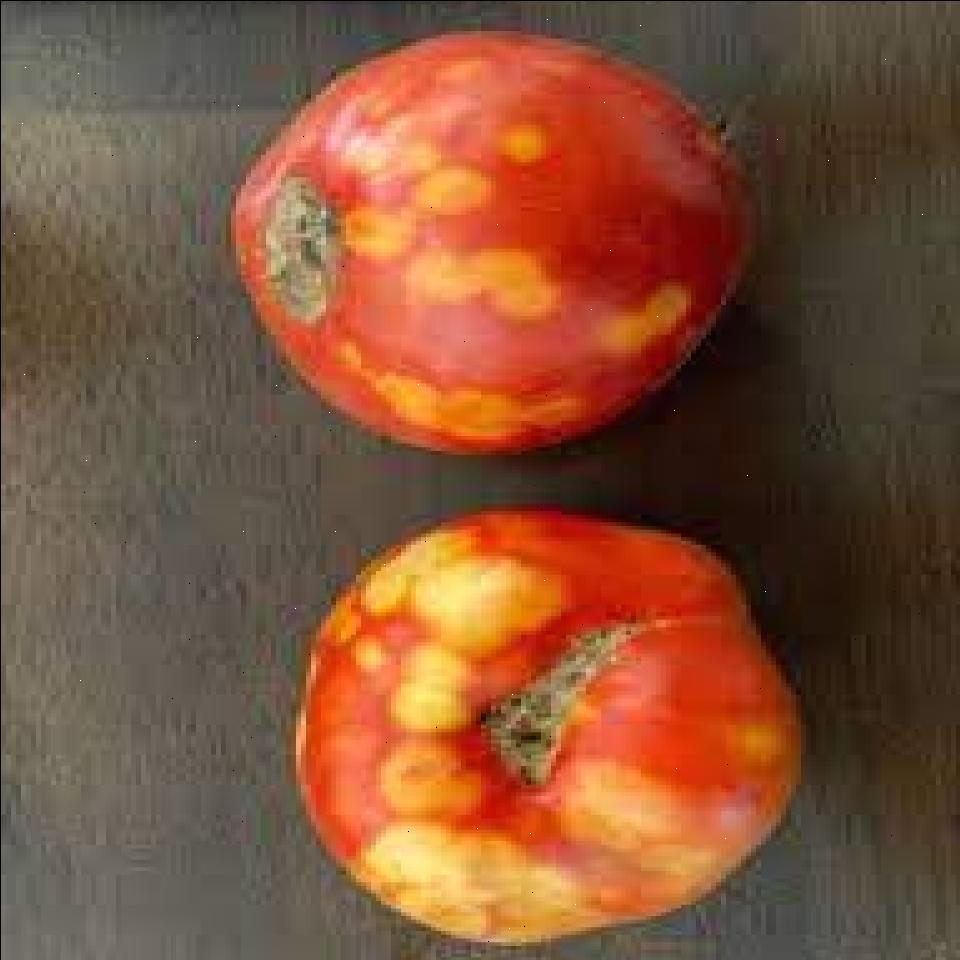Spotted wilt Virus: (230, 26, 750, 450), (290, 510, 795, 941)
